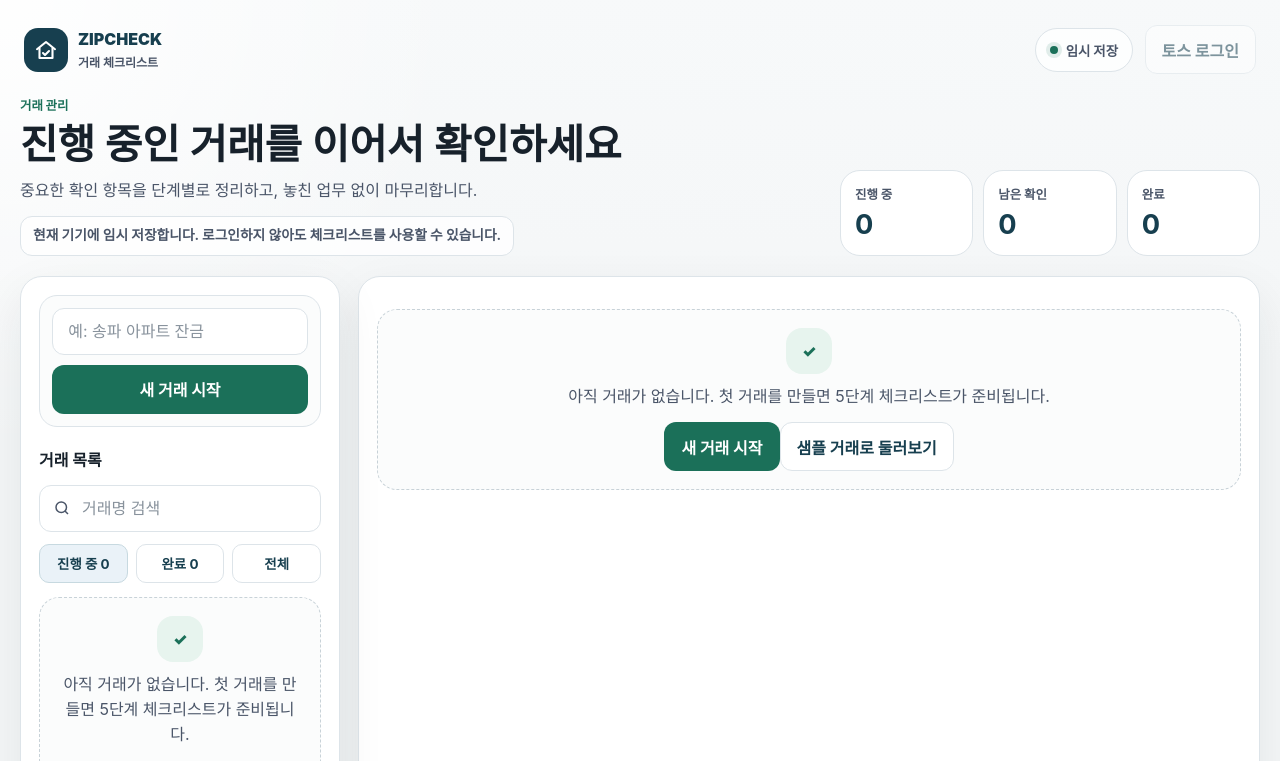
Test case: App broker checklist › creates a Korean case and keeps analytics PII-free
The image size is (1280, 761).
In the field named "거래명": (180, 331) [52,308,308,354], type "첫 거래"
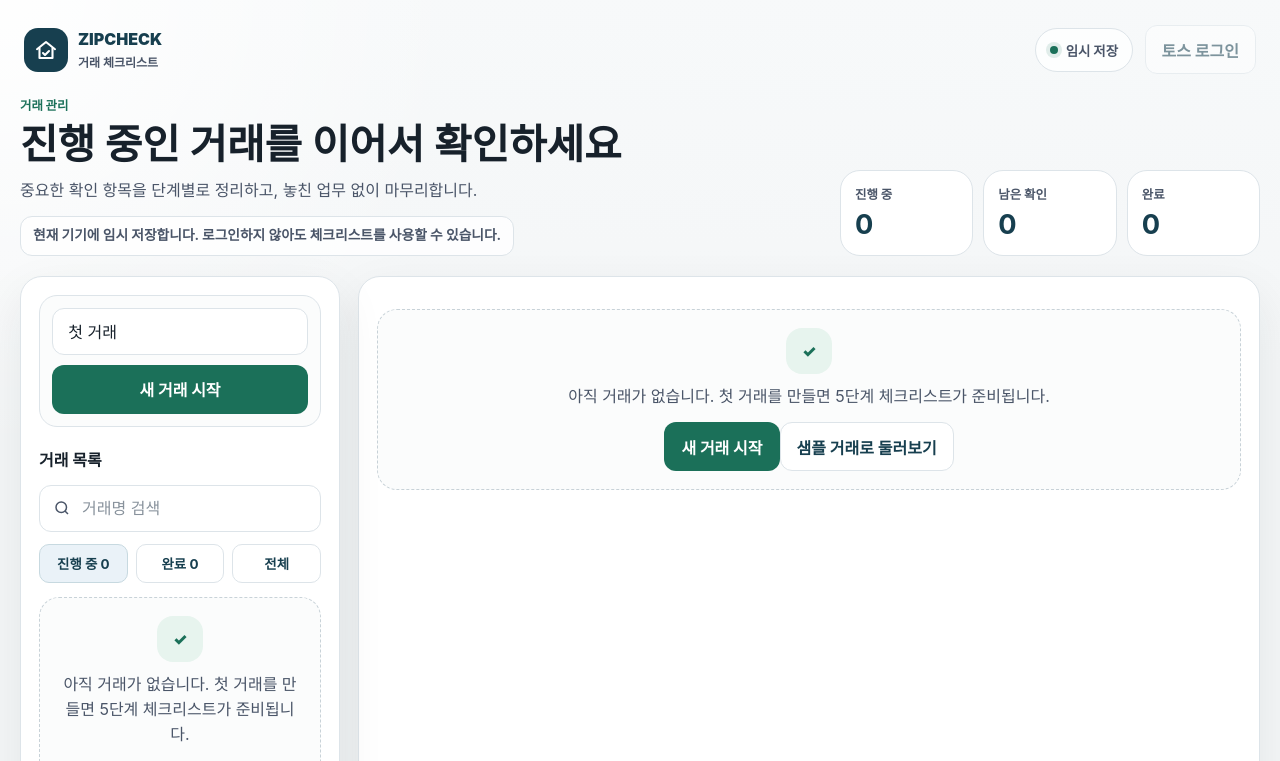
Click the 1st button "새 거래 시작": (180, 389) [52,365,308,414]
(page scrolled)
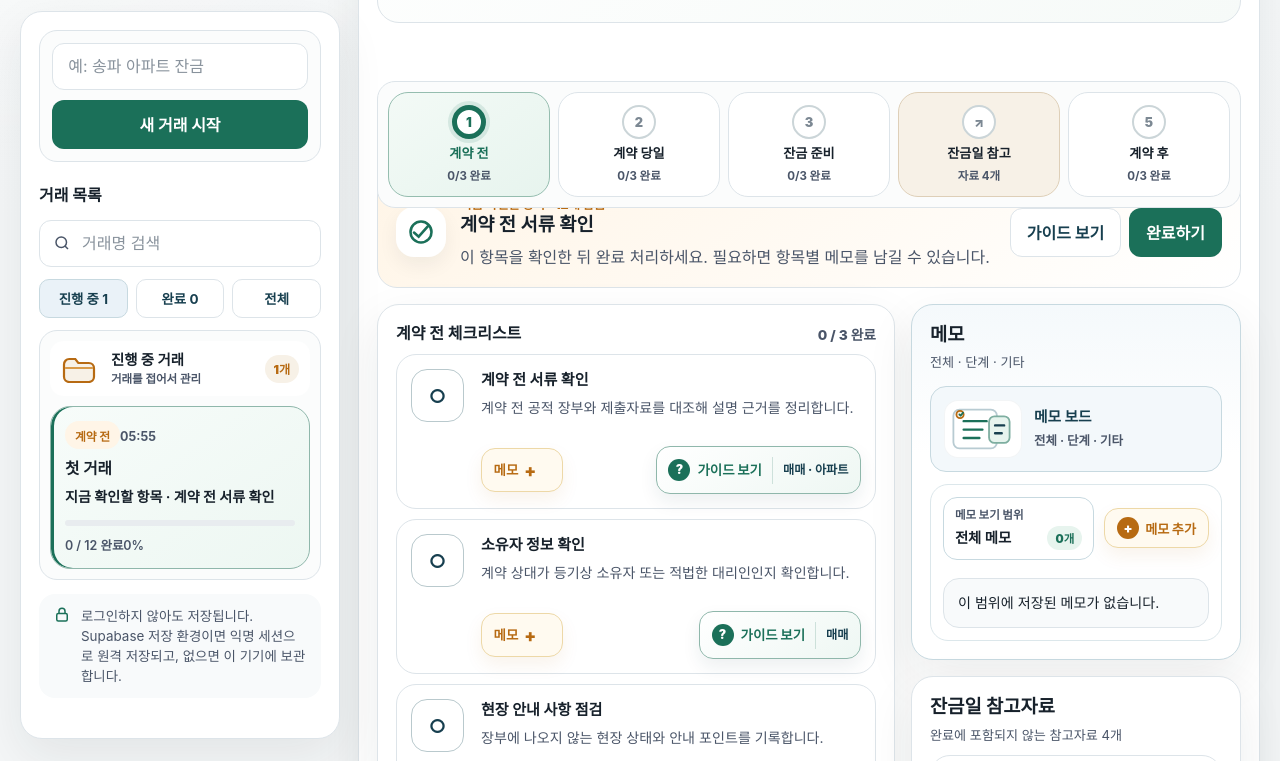
Result: the text "지금 확인할 항목 · 12개 남음" is shown at [460,197,606,212]
Result: the element named "계약 전 서류 확인 메모 추가" is shown at [396,354,876,509]
Result: the element with class "row-actions" showing "메모 + ? 가이드 보기 매매 · 아파트" is shown at [481,446,861,494]
